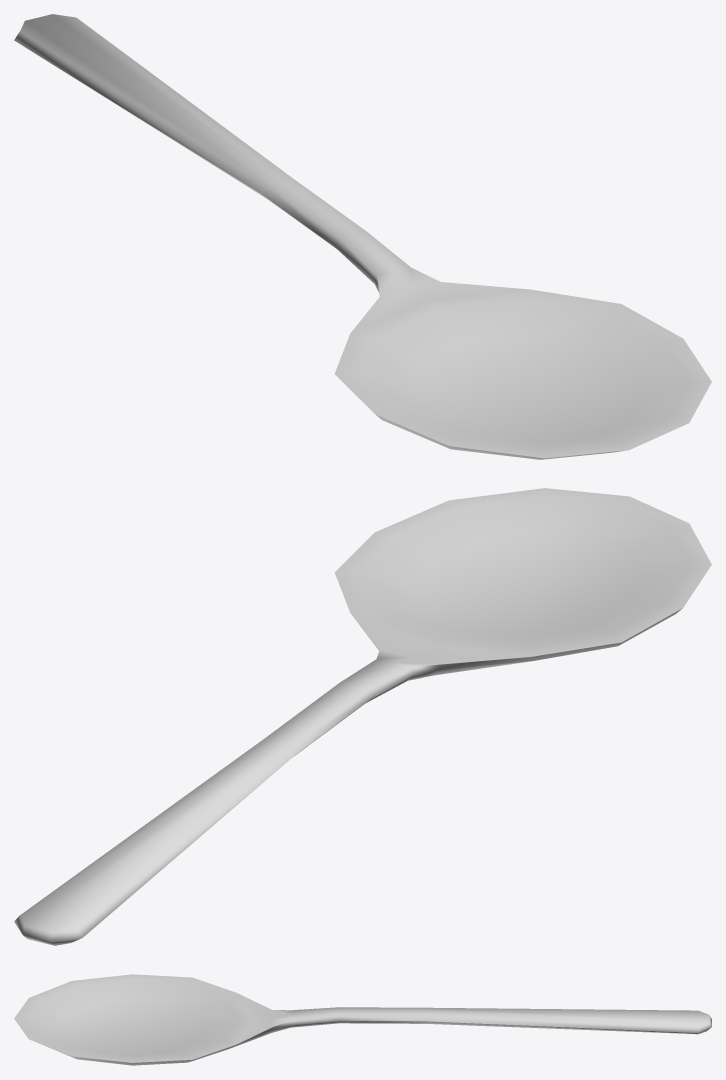
The model's file is ServingSpoon_01.fbx.
3 renders of one model, top to bottom at view 1: azimuth 30°, elevation 25°; view 2: azimuth 150°, elevation 25°; view 3: azimuth 270°, elevation 25°, orthographic. The views are drawn at different scales.
Visible parts, largest first — view 1: ServingSpoon_01; view 2: ServingSpoon_01; view 3: ServingSpoon_01.
Part boxes in pixels (x1,y1,x2,y2): ServingSpoon_01: (14,14,711,459); ServingSpoon_01: (14,488,711,945); ServingSpoon_01: (14,974,711,1065).
Size of the model in its own units: 0.0579 by 0.00737 by 0.1929.
